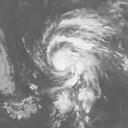cyclone: (46, 36, 89, 75)
